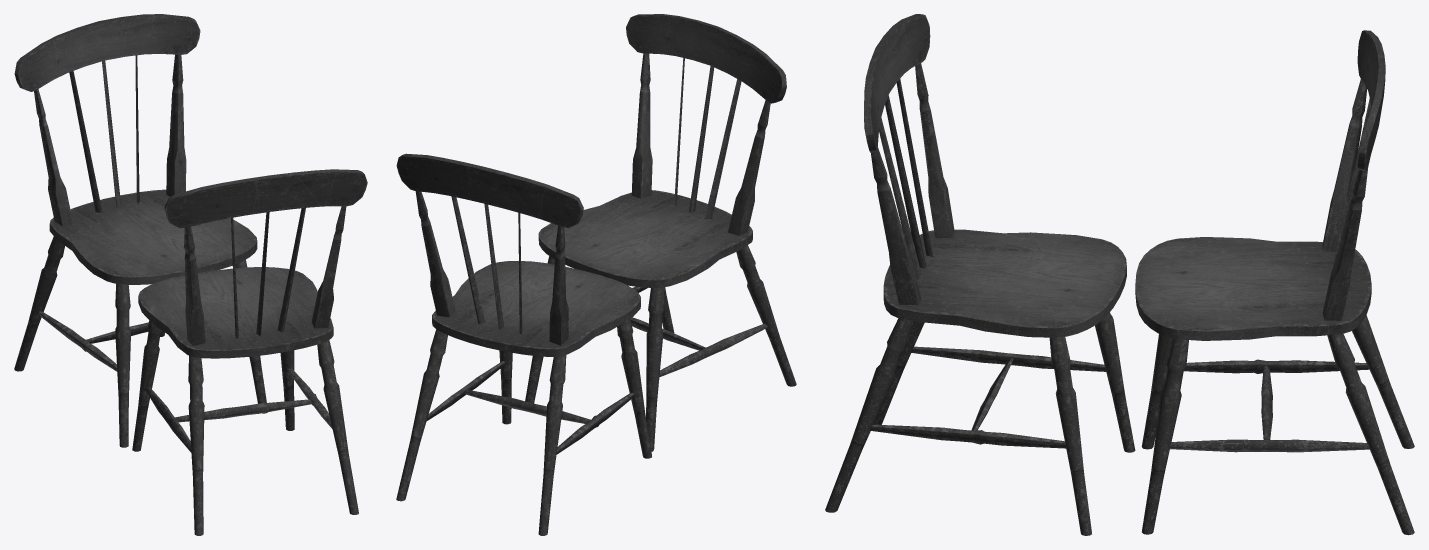
Rendered from chairs.fbx.
3 views of the same model, side by side, from view 1: azimuth 30°, elevation 25°; view 2: azimuth 150°, elevation 25°; view 3: azimuth 270°, elevation 25° (orthographic). The views are drawn at different scales.
Parts seen in each view (by area): view 1: Chair_2B1, Chair_2B; view 2: Chair_2B, Chair_2B1; view 3: Chair_2B1, Chair_2B.
Part boxes in pixels (x1=…): Chair_2B1: x1=132, y1=169, x2=367, y2=535; Chair_2B: x1=14, y1=14, x2=267, y2=447; Chair_2B: x1=396, y1=153, x2=651, y2=535; Chair_2B1: x1=525, y1=14, x2=796, y2=451; Chair_2B1: x1=825, y1=14, x2=1135, y2=535; Chair_2B: x1=1135, y1=30, x2=1414, y2=535.
Bounding box in the file's own units: 1.89 × 2.91 × 3.67.
